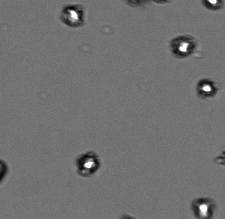Living Cell: (170, 35, 195, 58), (78, 151, 101, 175), (59, 5, 83, 27), (192, 198, 214, 217), (197, 78, 218, 97), (202, 1, 222, 9)
